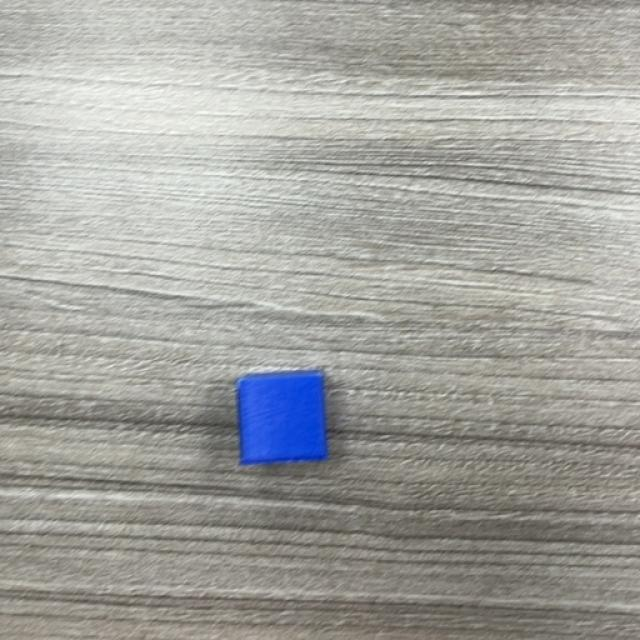Azul: (238, 371, 330, 469)
